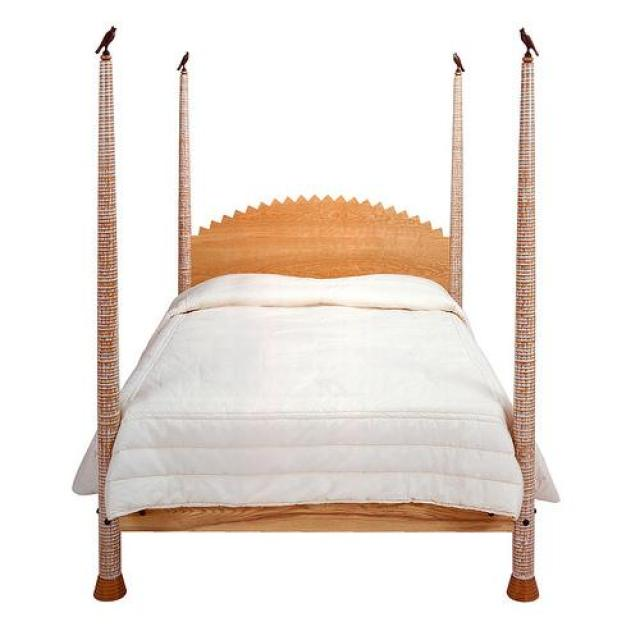bed: (72, 28, 558, 603)
